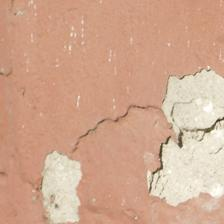Crack: (21, 0, 206, 128), (40, 0, 118, 131), (138, 114, 224, 162)
